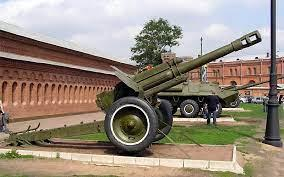sau: (24, 18, 266, 159)
tank: (168, 74, 251, 123)
